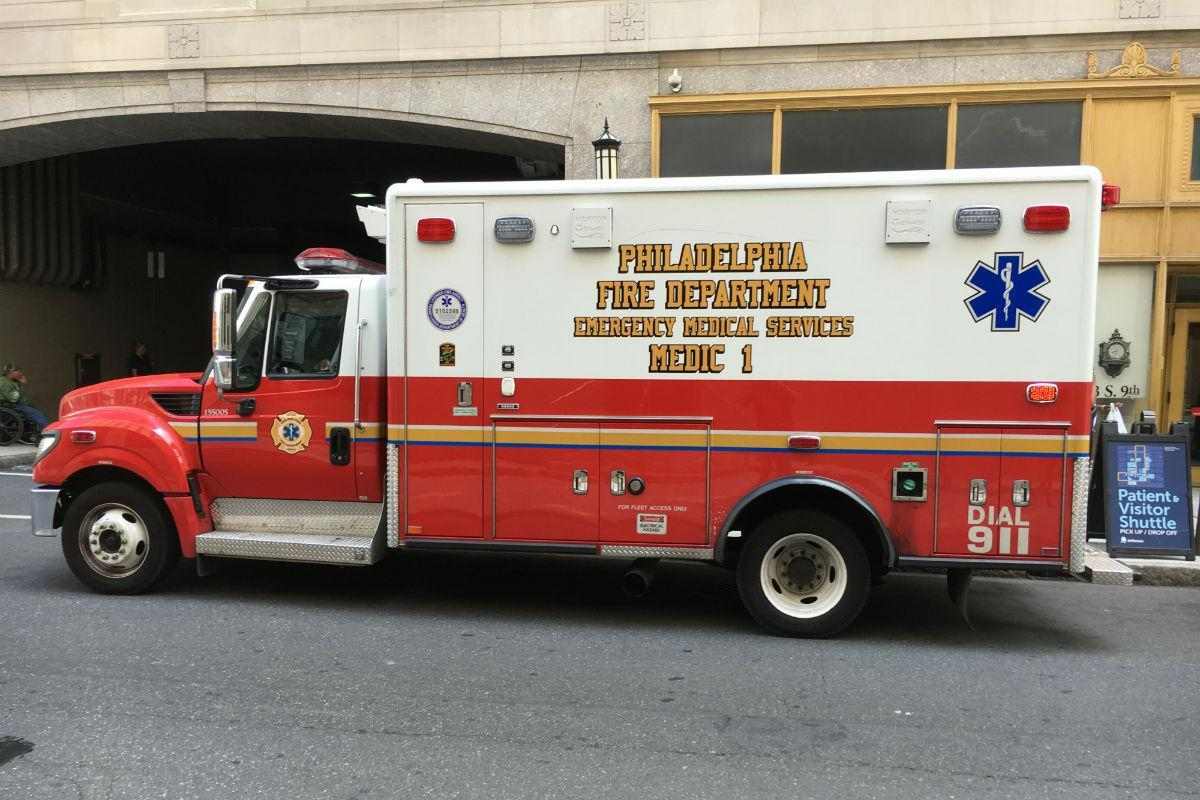Ambulance: (947, 249, 1082, 346)
